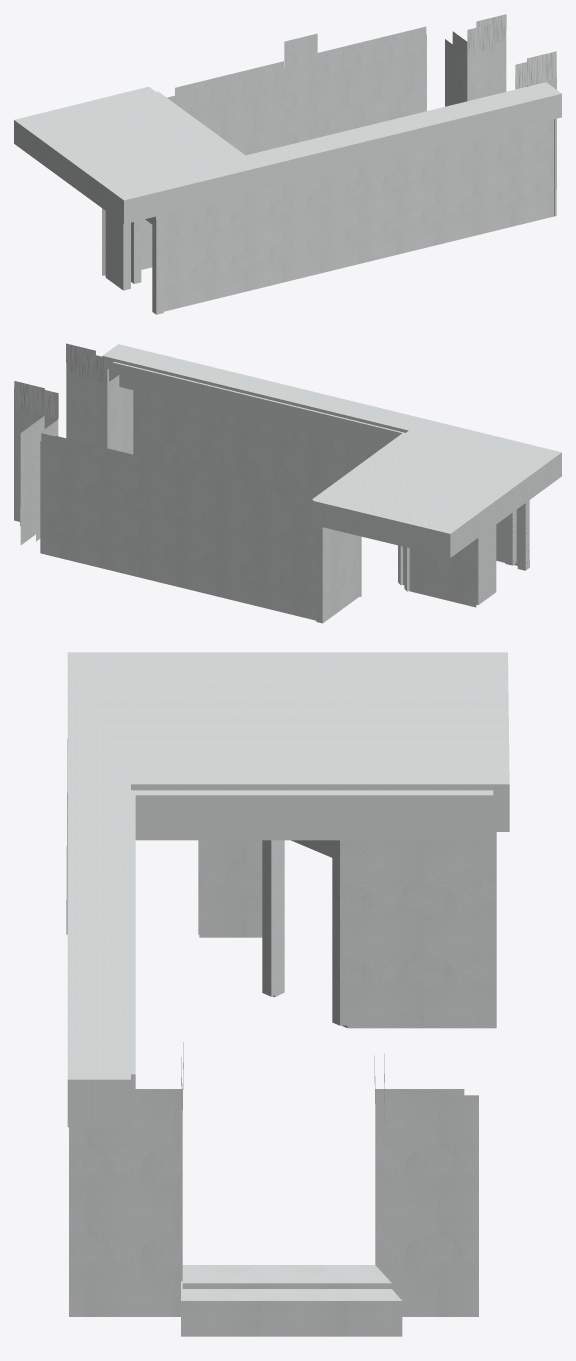
Rendered from MursChambre.FBX.
The picture shows the model from 3 angles, top to bottom: view 1: azimuth 30°, elevation 25°; view 2: azimuth 150°, elevation 25°; view 3: azimuth 270°, elevation 25°; orthographic projection. The views are drawn at different scales.
Parts seen in each view (by area): view 1: Mur_ChambreOuside, Mur_Chambre; view 2: Mur_ChambreOuside, Mur_Chambre; view 3: Mur_ChambreOuside, Mur_Chambre.
Boxes of the visible parts, bbox=[...] form: Mur_ChambreOuside: bbox=[14, 14, 561, 314]; Mur_Chambre: bbox=[131, 23, 526, 283]; Mur_ChambreOuside: bbox=[14, 343, 561, 623]; Mur_Chambre: bbox=[36, 351, 516, 585]; Mur_ChambreOuside: bbox=[66, 652, 509, 1336]; Mur_Chambre: bbox=[131, 790, 493, 1288].
Bounding box in the file's own units: 12.92 × 5.37 × 3.71.
Materials: 1 (1 with a texture image).
